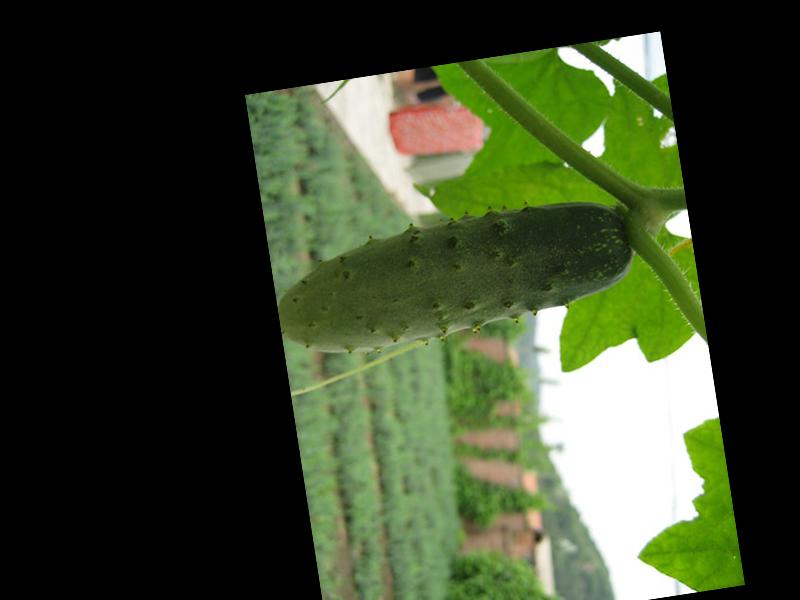Cucumber: (269, 192, 640, 360)
